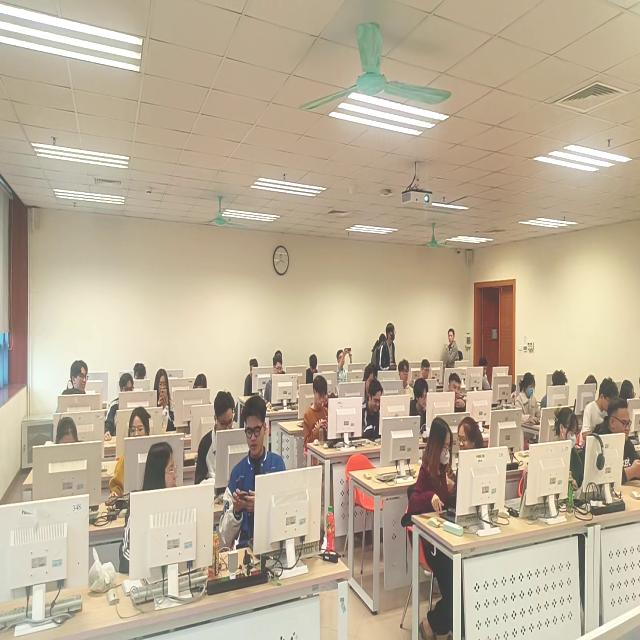raise_head: (398, 357, 411, 398)
stand: (380, 319, 398, 372), (443, 326, 461, 371), (370, 329, 386, 370)
using_computer: (108, 400, 154, 512), (195, 390, 237, 490), (553, 402, 588, 502), (582, 379, 619, 445), (106, 370, 135, 443), (515, 369, 542, 427), (362, 377, 384, 441), (264, 352, 288, 410), (542, 366, 571, 412), (50, 414, 80, 447), (447, 371, 468, 418), (412, 378, 430, 431), (243, 354, 260, 397), (305, 348, 321, 383), (620, 376, 638, 403), (477, 360, 492, 392), (191, 372, 210, 395), (421, 356, 433, 381), (364, 361, 374, 385), (134, 363, 146, 379)
using_phone: (217, 390, 293, 558), (592, 395, 640, 487), (303, 372, 330, 450), (154, 363, 175, 425), (335, 343, 355, 386)
